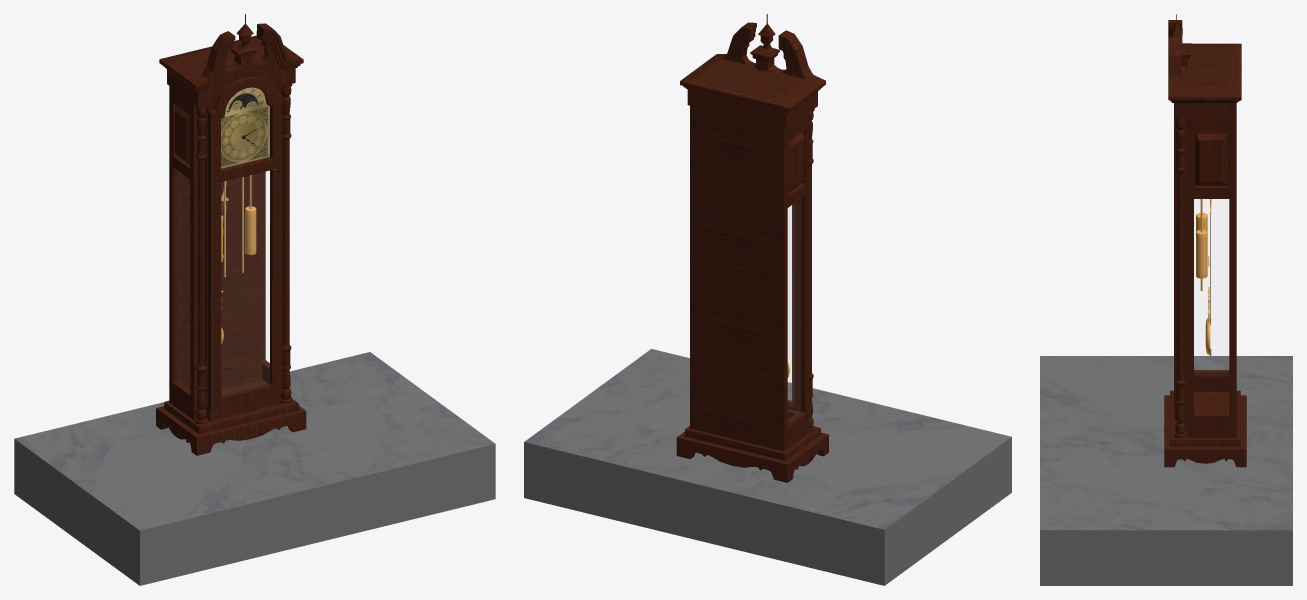
The picture shows the model from 3 angles, left to right: view 1: azimuth 30°, elevation 25°; view 2: azimuth 150°, elevation 25°; view 3: azimuth 270°, elevation 25°; orthographic projection.
Parts seen in each view (by area): view 1: Cube, clock, pillars, face, Cylinder; view 2: Cube, clock, face, pillars; view 3: Cube, clock, pillars, Cylinder.
Part boxes in pixels (box(x1,y1,x2,y2)): Cube: box(14, 352, 495, 585); clock: box(156, 14, 306, 455); pillars: box(195, 84, 292, 424); face: box(221, 87, 269, 168); Cylinder: box(221, 175, 256, 277); Cube: box(524, 349, 1011, 585); clock: box(676, 14, 828, 482); face: box(788, 204, 793, 406); pillars: box(809, 109, 814, 432); Cube: box(1040, 356, 1292, 585); clock: box(1164, 14, 1246, 467); pillars: box(1174, 118, 1186, 438); Cylinder: box(1196, 199, 1207, 290).
Size of the model in its own units: 3.34 by 4.31 by 2.04.
6 materials, 4 textured.
